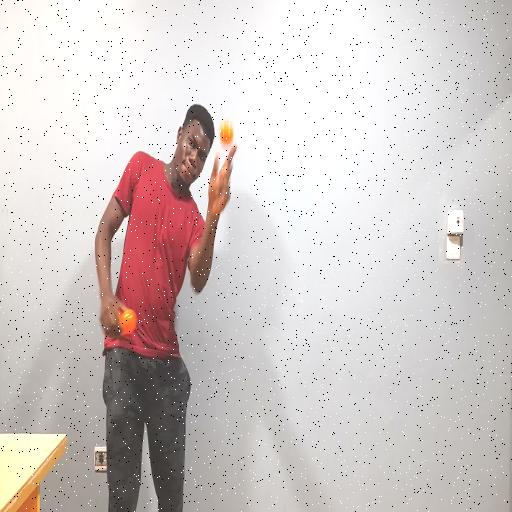plastic-ball: (217, 117, 235, 152)
